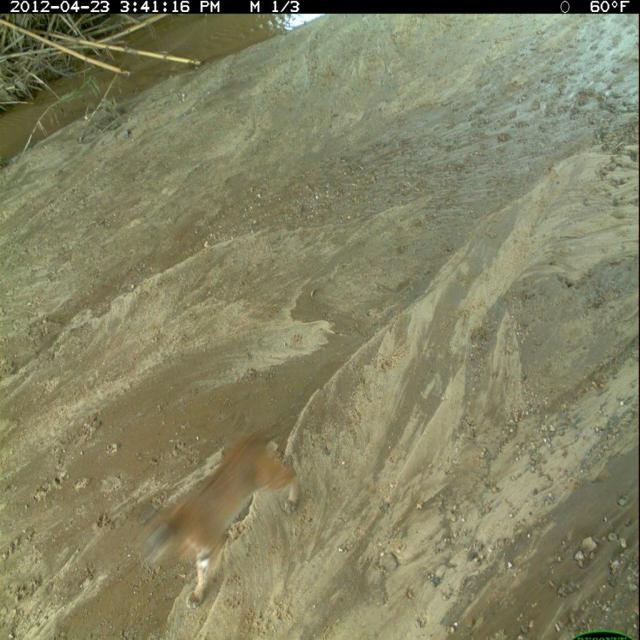bobcat: (133, 417, 306, 615)
